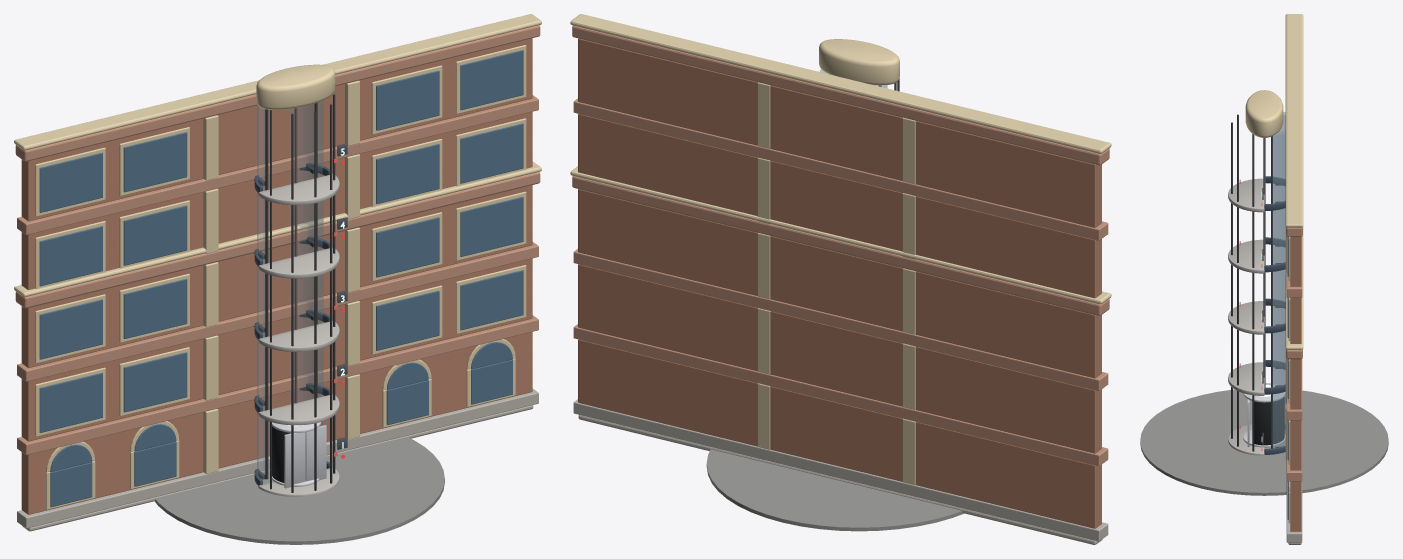
The model's file is elevator-shaft.glb.
The picture shows the model from 3 angles, left to right: view 1: azimuth 30°, elevation 25°; view 2: azimuth 150°, elevation 25°; view 3: azimuth 270°, elevation 25°; orthographic projection. The views are drawn at different scales.
Visible parts, largest first — view 1: BuildingFloor_5, BuildingFloor_3, BuildingFloor_2, BuildingFloor_1, BuildingFloor_4, GroundPlaza, BuildingParapet_5, ShaftTube, BuildingParapet_3, ShaftCap, GuideRails, BuildingBase (+14 smaller); view 2: BuildingFloor_5, BuildingFloor_1, BuildingFloor_2, BuildingFloor_3, BuildingFloor_4, BuildingParapet_5, GroundPlaza, BuildingParapet_3, ShaftCap, BuildingBase; view 3: GroundPlaza, BuildingParapet_5, ShaftTube, ShaftCap, CarBody, BuildingFloor_1, BuildingFloor_2, BuildingFloor_3, BuildingFloor_5, FloorSlab_5, FloorSlab_4, FloorSlab_2 (+9 smaller).
Part boxes in pixels (x1=…): BuildingFloor_5: x1=17, y1=38, x2=538, y2=234; BuildingFloor_3: x1=17, y1=185, x2=538, y2=381; BuildingFloor_2: x1=17, y1=258, x2=538, y2=455; BuildingFloor_1: x1=17, y1=332, x2=538, y2=528; BuildingFloor_4: x1=21, y1=111, x2=537, y2=308; GroundPlaza: x1=155, y1=437, x2=444, y2=544; BuildingParapet_5: x1=14, y1=14, x2=541, y2=161; ShaftTube: x1=257, y1=100, x2=323, y2=481; BuildingParapet_3: x1=14, y1=161, x2=541, y2=308; ShaftCap: x1=256, y1=64, x2=335, y2=109; GuideRails: x1=265, y1=102, x2=317, y2=479; BuildingBase: x1=22, y1=405, x2=533, y2=531; BuildingFloor_5: x1=573, y1=38, x2=1108, y2=240; BuildingFloor_1: x1=573, y1=339, x2=1108, y2=541; BuildingFloor_2: x1=573, y1=264, x2=1108, y2=466; BuildingFloor_3: x1=573, y1=189, x2=1108, y2=390; BuildingFloor_4: x1=575, y1=114, x2=1101, y2=315; BuildingParapet_5: x1=570, y1=14, x2=1111, y2=165; GroundPlaza: x1=706, y1=449, x2=964, y2=531; BuildingParapet_3: x1=570, y1=166, x2=1111, y2=315; ShaftCap: x1=819, y1=39, x2=899, y2=85; BuildingBase: x1=578, y1=415, x2=1102, y2=544; GroundPlaza: x1=1140, y1=389, x2=1388, y2=495; BuildingParapet_5: x1=1285, y1=14, x2=1303, y2=236; ShaftTube: x1=1272, y1=112, x2=1286, y2=448; ShaftCap: x1=1245, y1=90, x2=1283, y2=137; CarBody: x1=1254, y1=397, x2=1284, y2=445; BuildingFloor_1: x1=1285, y1=399, x2=1302, y2=542; BuildingFloor_2: x1=1285, y1=349, x2=1302, y2=481; BuildingFloor_3: x1=1286, y1=359, x2=1302, y2=420; BuildingFloor_5: x1=1286, y1=236, x2=1302, y2=297; FloorSlab_5: x1=1228, y1=178, x2=1264, y2=212; FloorSlab_4: x1=1228, y1=239, x2=1264, y2=273; FloorSlab_2: x1=1228, y1=362, x2=1264, y2=395.
Bounding box in the file's own units: 18.5 × 14 × 9.2.
